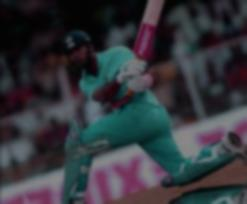batsman: (32, 6, 247, 204)
